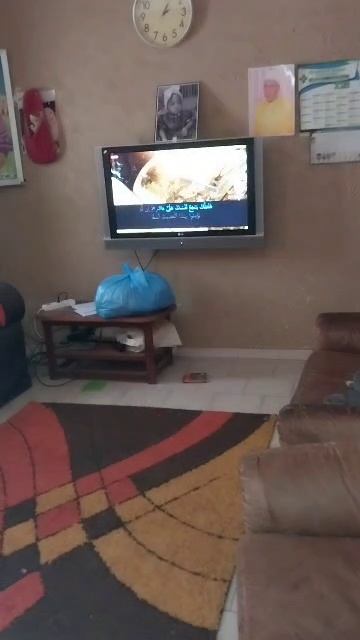television: (93, 130, 288, 260)
